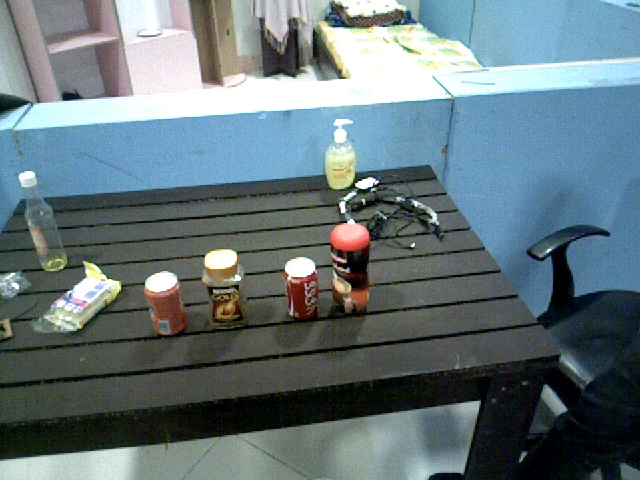coca: (285, 257, 318, 321)
coffee: (205, 249, 251, 333)
cream: (330, 223, 369, 317)
fanta: (143, 271, 187, 337)
